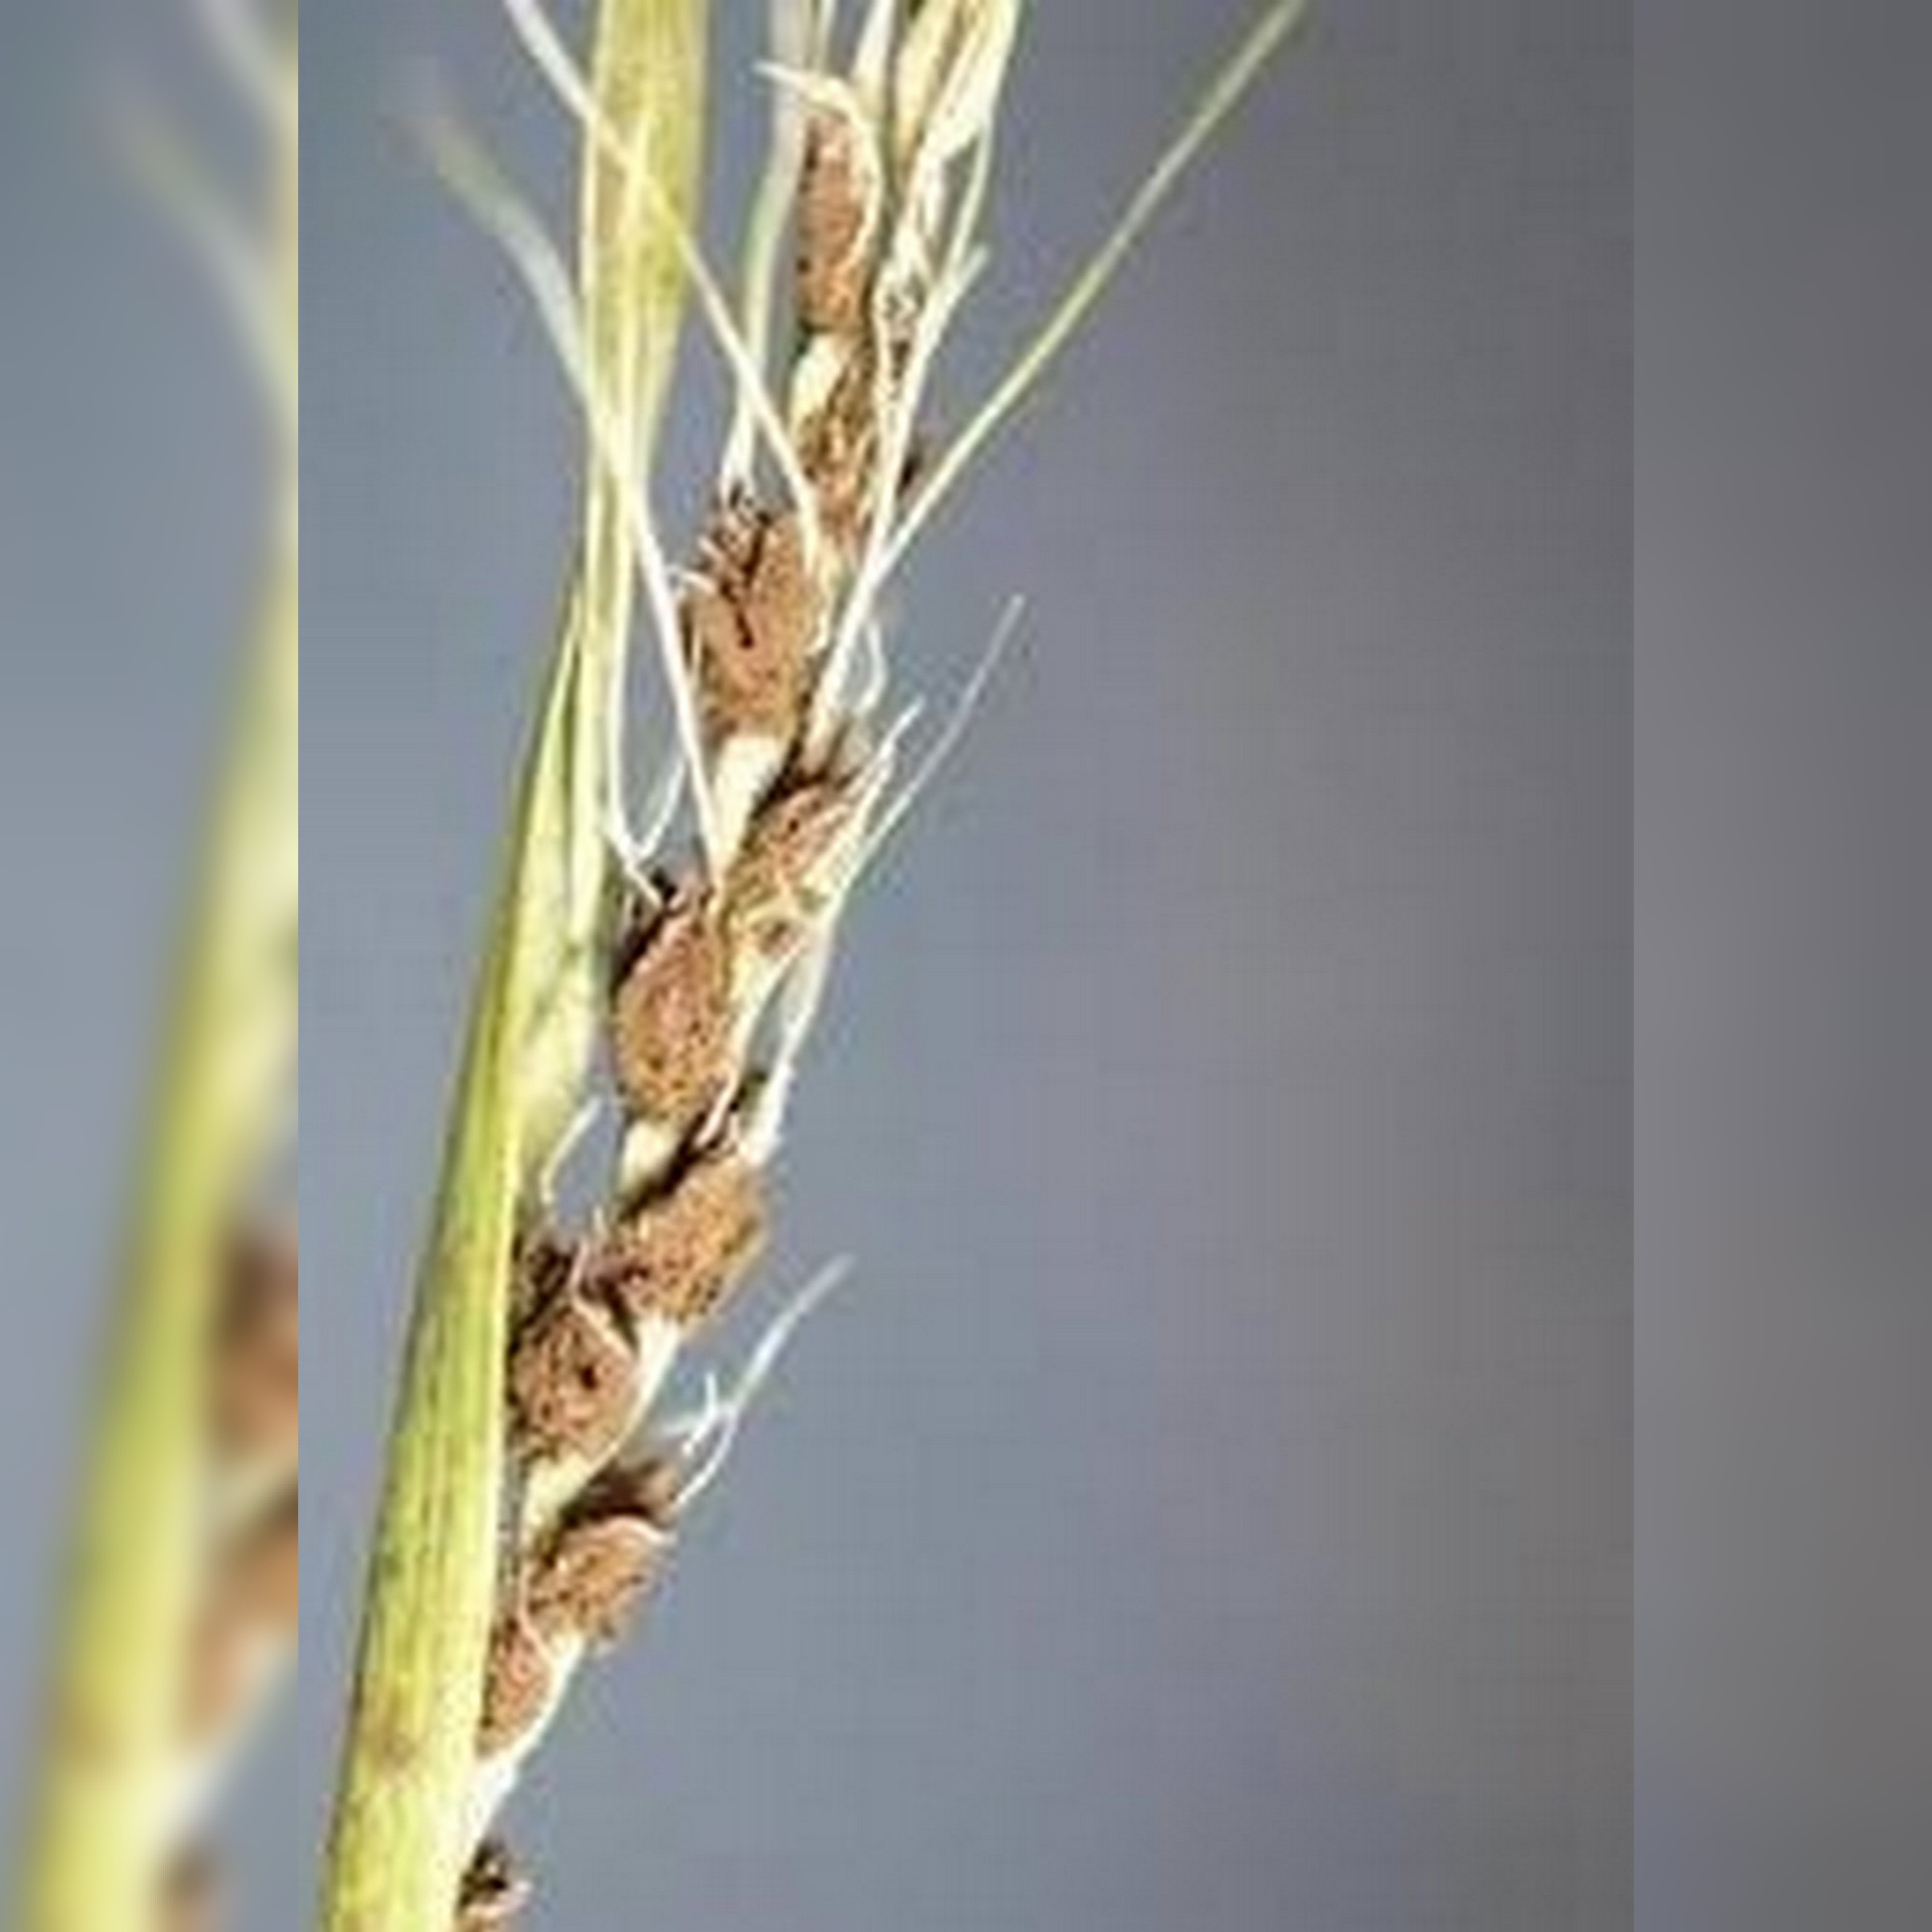Wheat Loose Smut: (508, 51, 1081, 1700)
